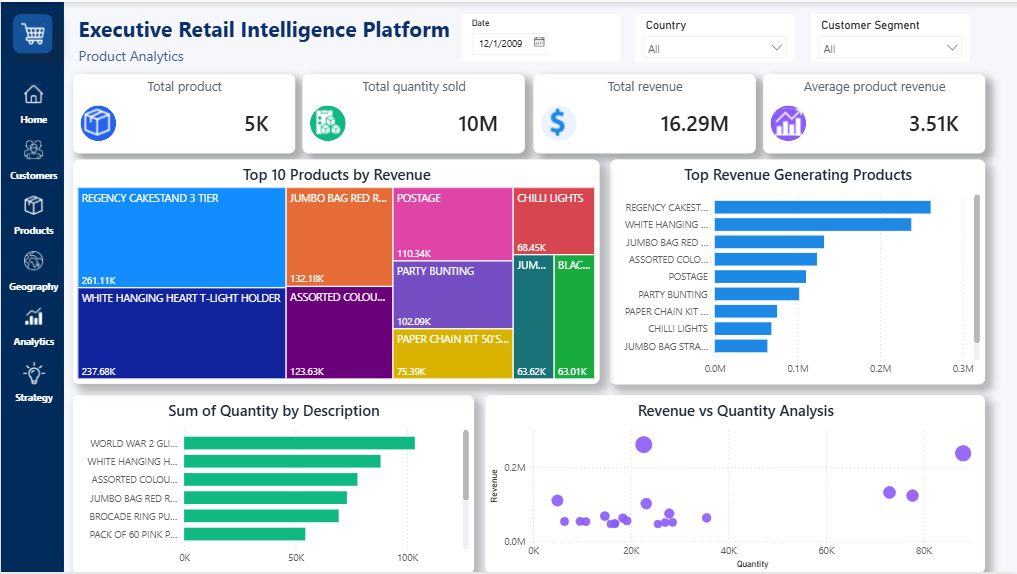

The page's visual inventory and layout, read from the dashboard file:
{"tool":"powerbi","page":{"name":"Product Analytics","canvas":[1280,720],"ordinal":2},"visuals":[{"type":"cardVisual","title":"Total product","fields":{"Data":["Customer_Summary.Total Products"]},"box":[90,90,280,100],"z":0},{"type":"cardVisual","title":"Total quantity sold","fields":{"Data":["Customer_Summary.Total Quantity Sold"]},"box":[380,90,280,100],"z":1000},{"type":"cardVisual","title":"Total revenue","fields":{"Data":["Customer_Summary.Revenue KPI"]},"box":[670,90,280,100],"z":2000},{"type":"cardVisual","title":"Average product revenue ","fields":{"Data":["Customer_Summary.Average Product Revenue"]},"box":[960,90,280,100],"z":3000},{"type":"clusteredBarChart","title":"Top Revenue Generating Products","fields":{"Category":["Fact_Sales.Description"],"Y":["Sum(Fact_Sales.Revenue)"]},"box":[767.2,198.4,472.4,283.5],"z":4000},{"type":"clusteredBarChart","fields":{"Category":["Fact_Sales.Description"],"Y":["Sum(Fact_Sales.Quantity)"]},"box":[91.6,495.9,505,225.1],"z":5000},{"type":"treemap","title":"Top 10 Products by Revenue","fields":{"Group":["Fact_Sales.Description"],"Values":["Sum(Fact_Sales.Revenue)"]},"box":[91.6,199.2,663.2,282.8],"z":6000},{"type":"scatterChart","title":"Revenue vs Quantity Analysis","fields":{"X":["Sum(Fact_Sales.Quantity)"],"Y":["Sum(Fact_Sales.Revenue)"],"Size":["Sum(Fact_Sales.Revenue)"],"Category":["Fact_Sales.Description"]},"box":[610.4,495.1,629.3,224.9],"z":7000},{"type":"shape","box":[0,0,79.4,720],"z":8000},{"type":"actionButton","box":[15,15,50,50],"z":9000},{"type":"actionButton","box":[4,100,75,60],"z":10000},{"type":"actionButton","box":[4,170,75,60],"z":11000},{"type":"actionButton","box":[4,240,75,60],"z":12000},{"type":"actionButton","box":[4,310,75,60],"z":13000},{"type":"actionButton","box":[4,380,75,60],"z":14000},{"type":"textbox","title":"Executive Retail Intelligence Platform","box":[92.6,15.1,498.9,64.3],"z":15000},{"type":"slicer","fields":{"Values":["DateTable.Date"]},"box":[580,15.1,200,60],"z":16000},{"type":"slicer","fields":{"Values":["Fact_Sales.Country"]},"box":[800,15.1,200,60],"z":17000},{"type":"slicer","fields":{"Values":["Customer_Summary.Customer Segment"]},"box":[1020,15.1,200,60],"z":18000},{"type":"shape","box":[680,130,45,45],"z":19000},{"type":"actionButton","box":[681,131,42,42],"z":20000},{"type":"shape","box":[970,130,45,45],"z":21000},{"type":"shape","box":[390,130,45,45],"z":22000},{"type":"shape","box":[100,130,45,45],"z":23000},{"type":"actionButton","box":[101,131,42,42],"z":24000},{"type":"actionButton","box":[391,131,42,42],"z":25000},{"type":"actionButton","box":[971,131,42,42],"z":26000},{"type":"actionButton","box":[4,450,75.6,60.5],"z":26001}]}

Visuals, with their boxes on the page's 1280x720 design canvas (x1, y1, x2, y2). These are canvas units, not pixel positions in the 1017x574 screenshot, which may show the page scaled, cropped or inside an application window:
"Total product" cardVisual: BBox(90, 90, 370, 190)
"Total quantity sold" cardVisual: BBox(380, 90, 660, 190)
"Total revenue" cardVisual: BBox(670, 90, 950, 190)
"Average product revenue " cardVisual: BBox(960, 90, 1240, 190)
"Top Revenue Generating Products" clusteredBarChart: BBox(767, 198, 1240, 482)
clusteredBarChart - Fact_Sales.Description x Sum(Fact_Sales.Quantity): BBox(92, 496, 597, 721)
"Top 10 Products by Revenue" treemap: BBox(92, 199, 755, 482)
"Revenue vs Quantity Analysis" scatterChart: BBox(610, 495, 1240, 720)
shape: BBox(0, 0, 79, 720)
actionButton: BBox(15, 15, 65, 65)
actionButton: BBox(4, 100, 79, 160)
actionButton: BBox(4, 170, 79, 230)
actionButton: BBox(4, 240, 79, 300)
actionButton: BBox(4, 310, 79, 370)
actionButton: BBox(4, 380, 79, 440)
"Executive Retail Intelligence Platform" textbox: BBox(93, 15, 592, 79)
slicer - DateTable.Date: BBox(580, 15, 780, 75)
slicer - Fact_Sales.Country: BBox(800, 15, 1000, 75)
slicer - Customer_Summary.Customer Segment: BBox(1020, 15, 1220, 75)
shape: BBox(680, 130, 725, 175)
actionButton: BBox(681, 131, 723, 173)
shape: BBox(970, 130, 1015, 175)
shape: BBox(390, 130, 435, 175)
shape: BBox(100, 130, 145, 175)
actionButton: BBox(101, 131, 143, 173)
actionButton: BBox(391, 131, 433, 173)
actionButton: BBox(971, 131, 1013, 173)
actionButton: BBox(4, 450, 80, 510)
